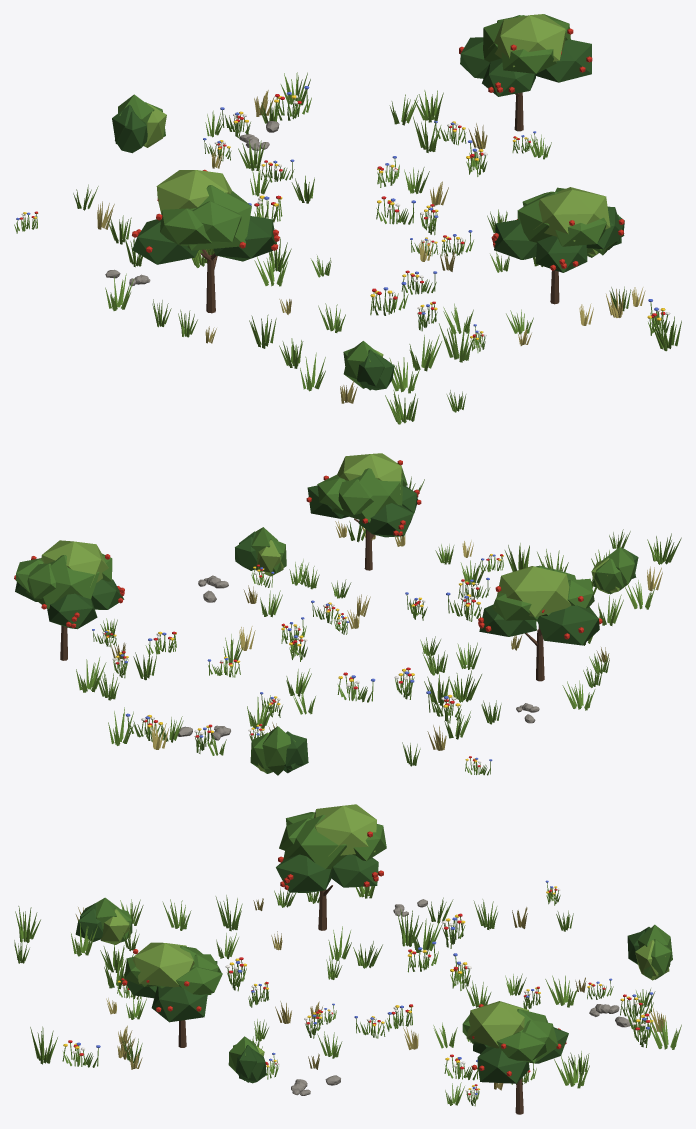
The model's file is GameProject3_SegmentVariante1.fbx.
3 renders of one model, top to bottom at view 1: azimuth 30°, elevation 25°; view 2: azimuth 150°, elevation 25°; view 3: azimuth 270°, elevation 25°, orthographic. The views are drawn at different scales.
Parts seen in each view (by area): view 1: B_Apfelbaum_07, B_Apfelbaum_03, B_Apfelbaum_02, B_Busch_Rund_01, B_Busch_Rund_03; view 2: B_Apfelbaum_07, B_Apfelbaum_03, B_Apfelbaum_02, B_Busch_Rund_01, B_Busch_Rund_02, B_Busch_Rund_03, B_Wildblumen_20, B_Wildblumen_05; view 3: B_Apfelbaum_07, B_Apfelbaum_03, B_Apfelbaum_02, B_Busch_Rund_03, B_Busch_Rund_01, B_Busch_Rund_02, B_Wildblumen_07, B_Grasbueschel_22.
Part boxes in pixels (x1,y1,x2,y2): B_Apfelbaum_07: (132, 169, 279, 313); B_Apfelbaum_03: (459, 14, 592, 131); B_Apfelbaum_02: (491, 187, 624, 304); B_Busch_Rund_01: (112, 94, 166, 153); B_Busch_Rund_03: (343, 341, 394, 390); B_Apfelbaum_07: (478, 565, 602, 681); B_Apfelbaum_03: (14, 540, 124, 660); B_Apfelbaum_02: (306, 453, 421, 570); B_Busch_Rund_01: (250, 726, 308, 775); B_Busch_Rund_02: (235, 527, 286, 576); B_Busch_Rund_03: (591, 547, 638, 594); B_Wildblumen_20: (337, 672, 375, 702); B_Wildblumen_05: (426, 691, 461, 723); B_Apfelbaum_07: (276, 804, 386, 930); B_Apfelbaum_03: (462, 1001, 568, 1114); B_Apfelbaum_02: (122, 942, 222, 1047); B_Busch_Rund_03: (75, 897, 132, 944); B_Busch_Rund_01: (627, 924, 672, 980); B_Busch_Rund_02: (228, 1036, 266, 1083); B_Wildblumen_07: (62, 1040, 100, 1067); B_Grasbueschel_22: (554, 1055, 589, 1088).
Size of the model in its own units: 1638 by 376 by 1873.
